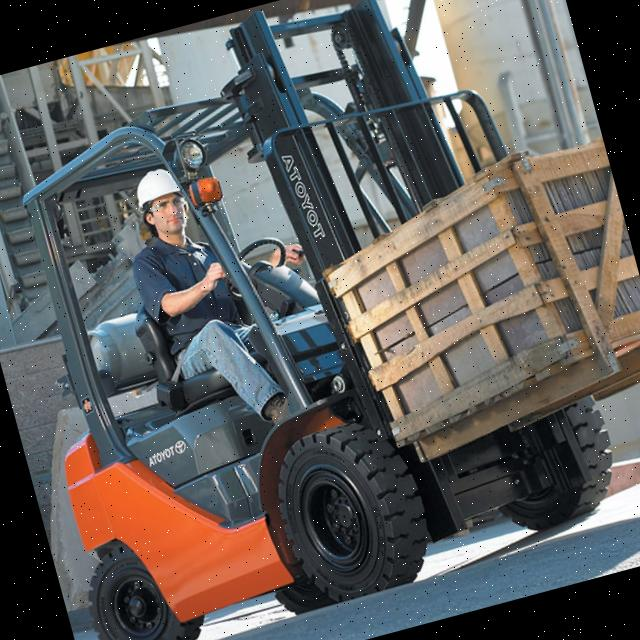Person: (109, 136, 344, 450)
